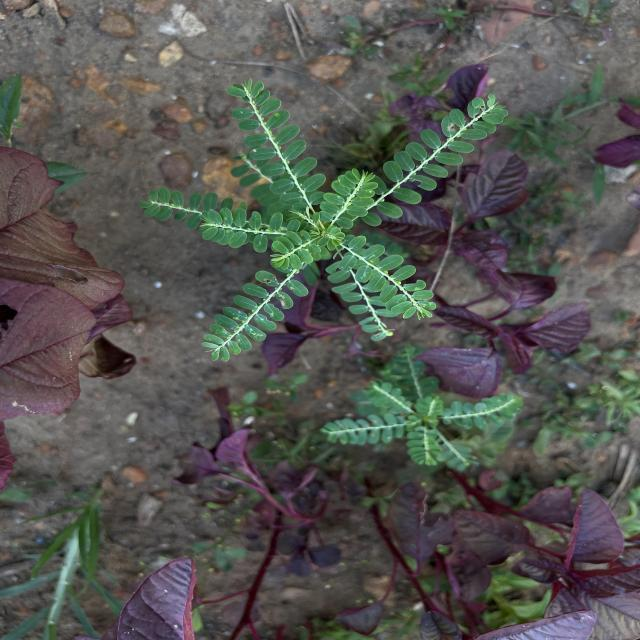Phyllanthus niruri: (354, 91, 512, 228), (228, 75, 327, 208), (200, 268, 304, 363), (336, 234, 440, 321), (196, 208, 306, 256), (318, 170, 382, 222)
